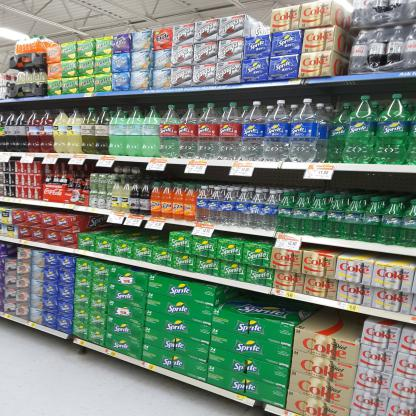Void: (218, 286, 364, 341), (296, 171, 413, 200), (86, 213, 170, 245)
